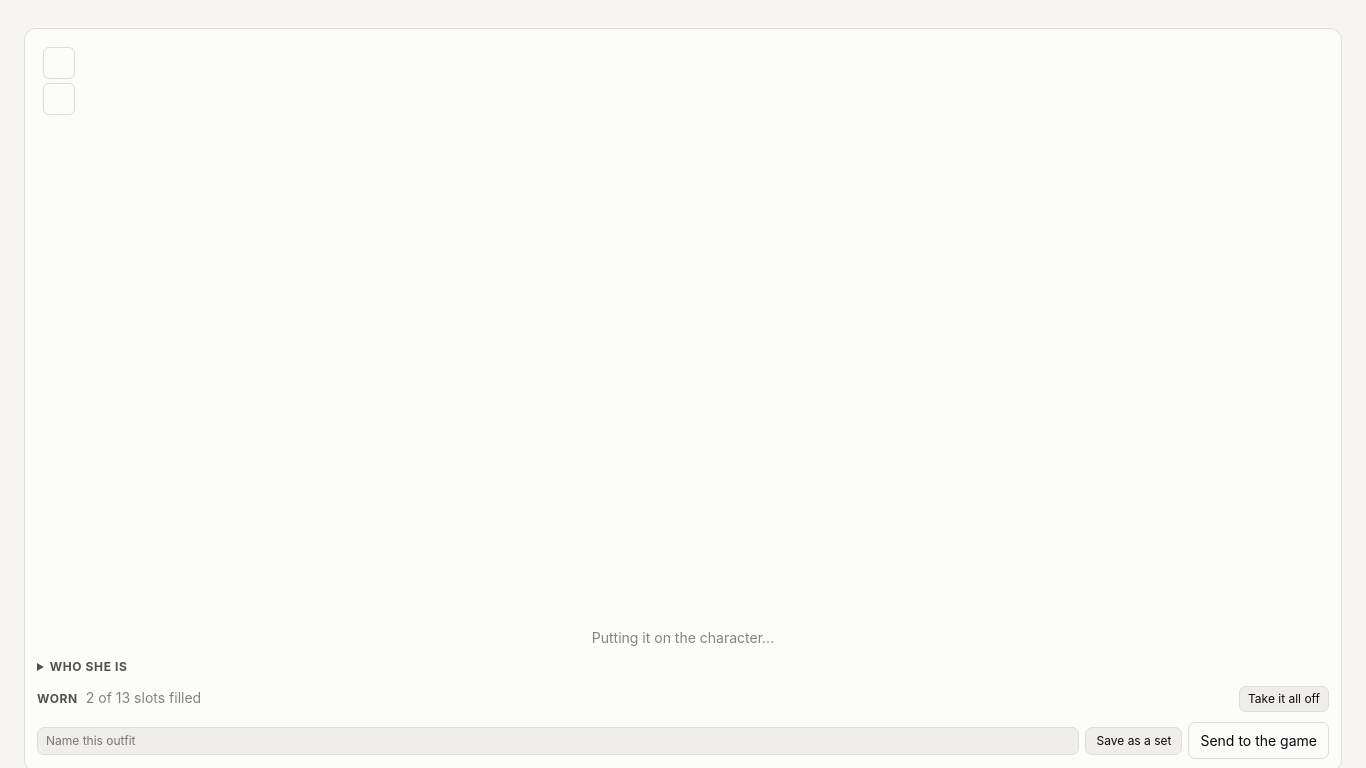
Test: sending an outfit to the game › says why a send was refused
The image size is (1366, 768).
Type "Deeps run" into the field named "Name for this set".
click(558, 740); type("Deeps run")  # box x1=37 y1=726 x2=1080 y2=754
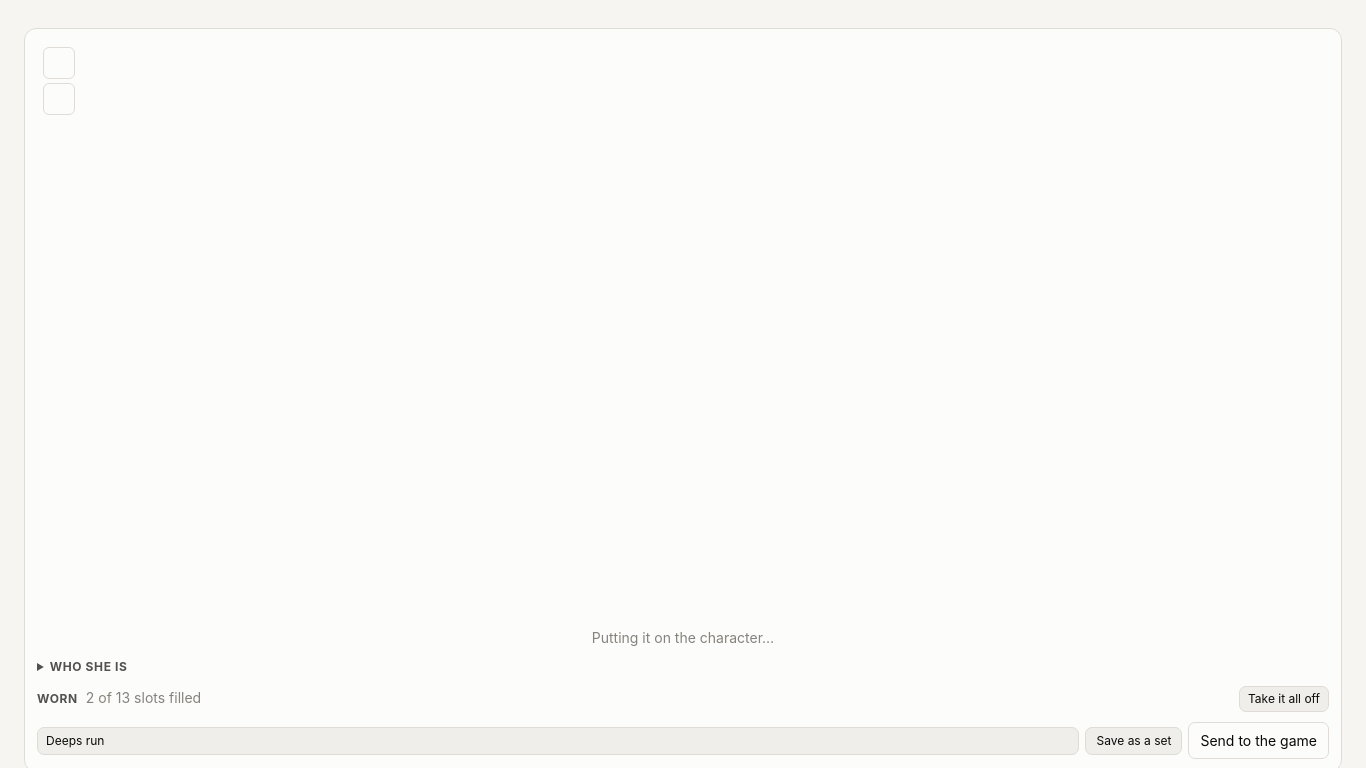
Click the button "Send to the game".
click(1259, 740)  # box x1=1188 y1=722 x2=1329 y2=759
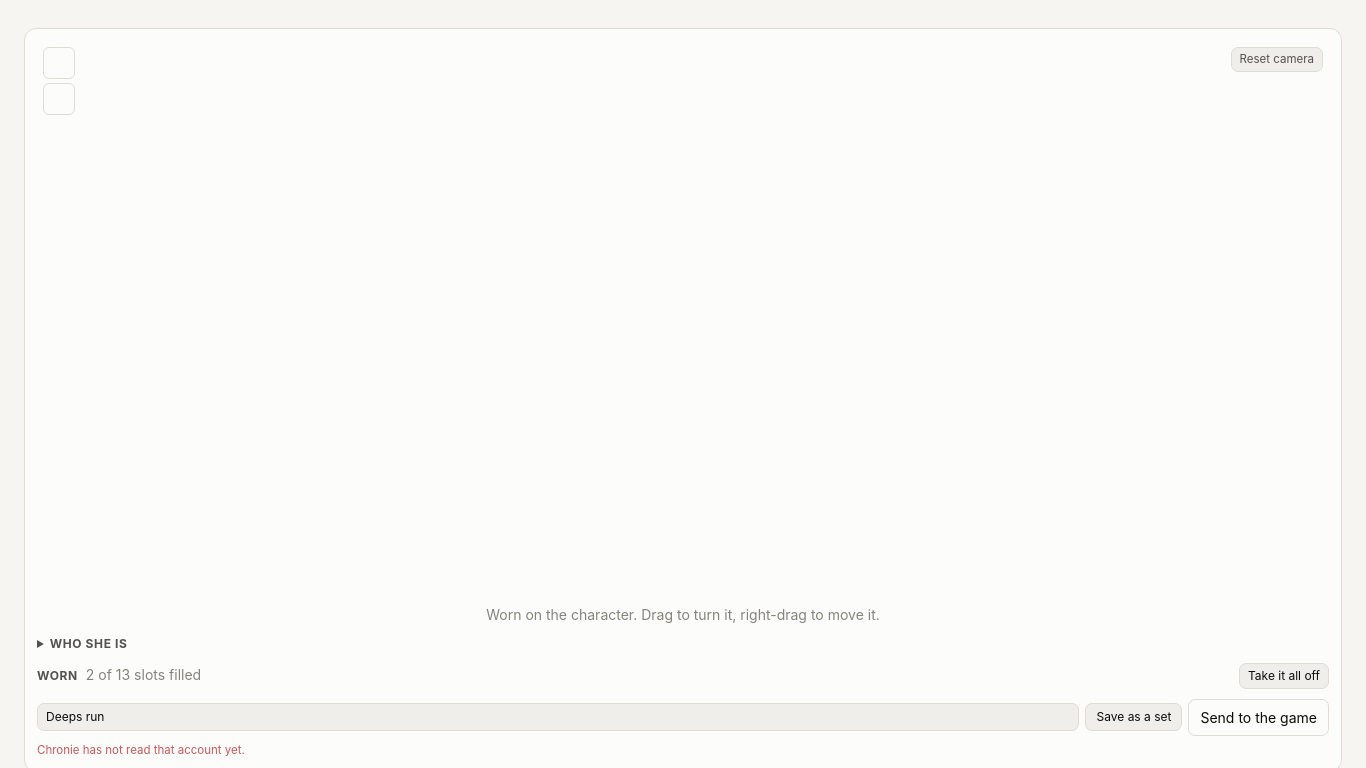
Result: the message "Chronie has not read that account yet." is shown at x1=37 y1=743 x2=245 y2=757
